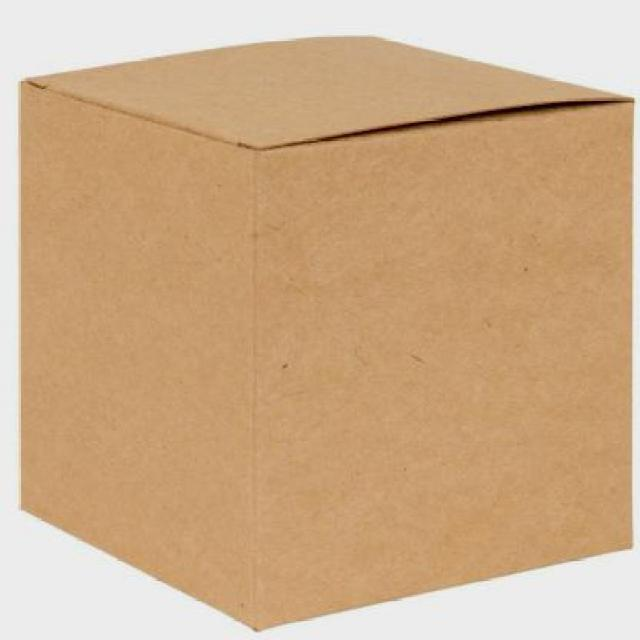box: (0, 19, 638, 638)
